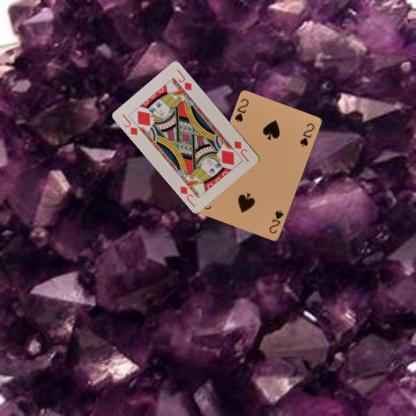2s: (266, 208, 285, 235), (232, 96, 250, 124)
Jd: (120, 111, 139, 137), (232, 138, 250, 163)
